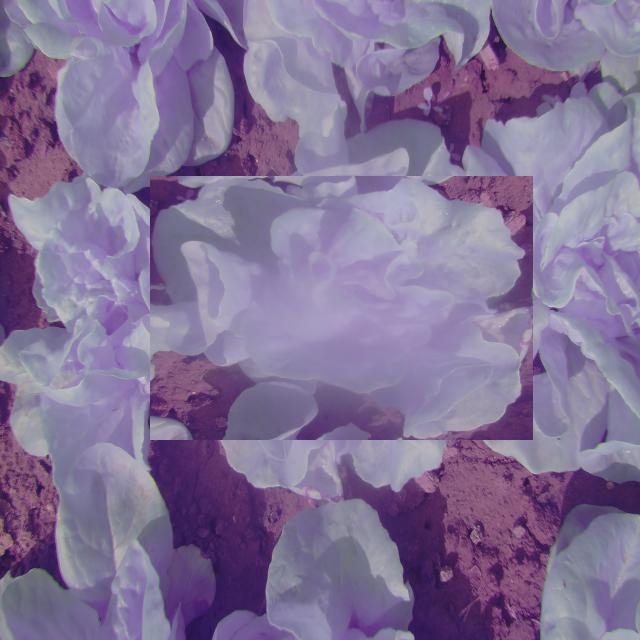vege: (180, 146, 503, 470)
